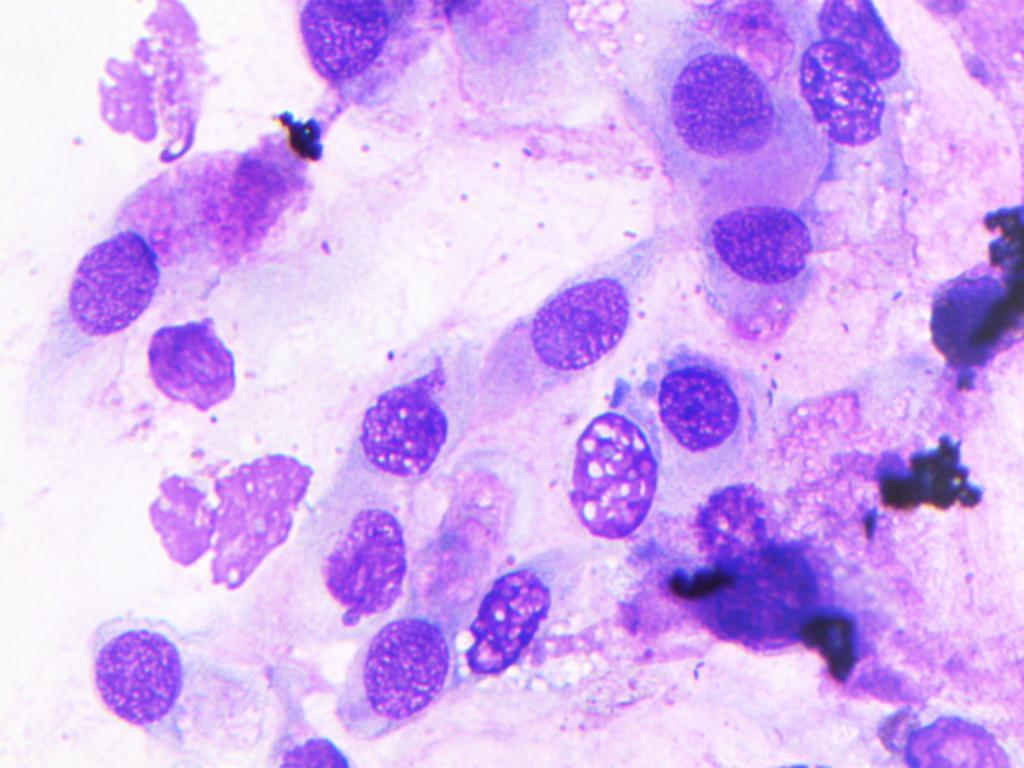artifact: (131, 449, 318, 590), (918, 196, 1024, 381), (103, 0, 214, 162), (862, 430, 994, 520), (798, 608, 869, 679), (271, 103, 331, 162), (659, 564, 739, 600)
epithelial: (446, 229, 647, 413), (70, 605, 247, 743), (682, 206, 811, 358), (653, 34, 781, 159), (563, 398, 662, 556), (708, 536, 832, 653), (649, 349, 756, 469), (136, 313, 255, 411), (351, 359, 443, 485), (316, 497, 408, 623), (460, 562, 552, 688), (795, 39, 888, 147), (355, 618, 451, 721), (889, 690, 1007, 768), (294, 2, 398, 83), (689, 477, 769, 575), (818, 0, 904, 88)
goblet_cell: (64, 133, 313, 331)
